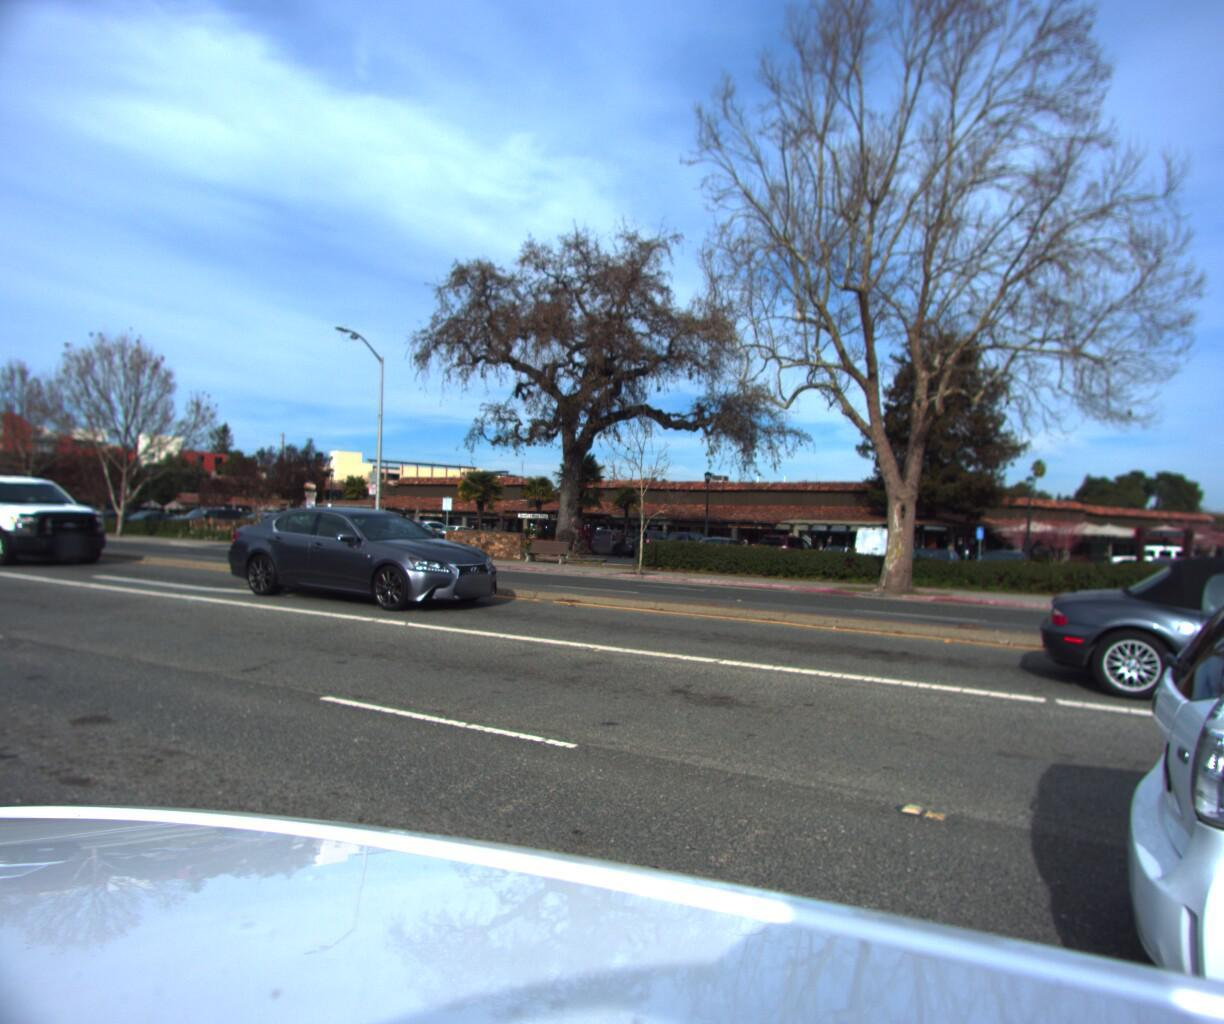car: (1023, 540, 1224, 744), (217, 507, 518, 615), (0, 473, 123, 573), (1136, 550, 1203, 604), (1218, 540, 1224, 607)
